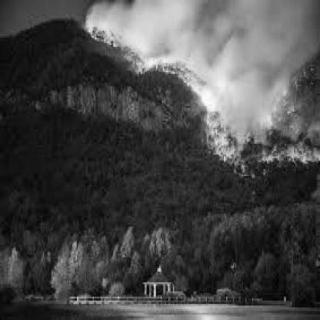Fire: (80, 0, 318, 169)
